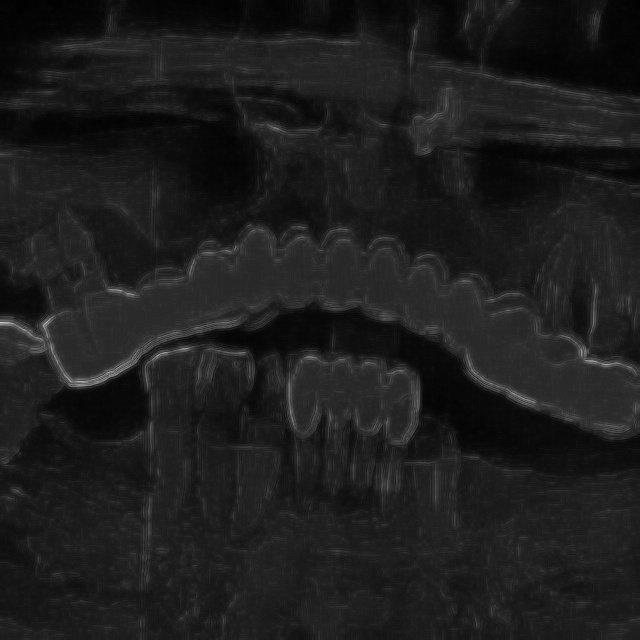Class 1- complete endodontic treatment: (502, 204, 596, 434), (328, 353, 407, 539), (412, 404, 478, 568)
Class 2- incomplete endodontic treatment: (17, 205, 143, 398), (576, 200, 640, 465)
cavity: (282, 350, 323, 529)
